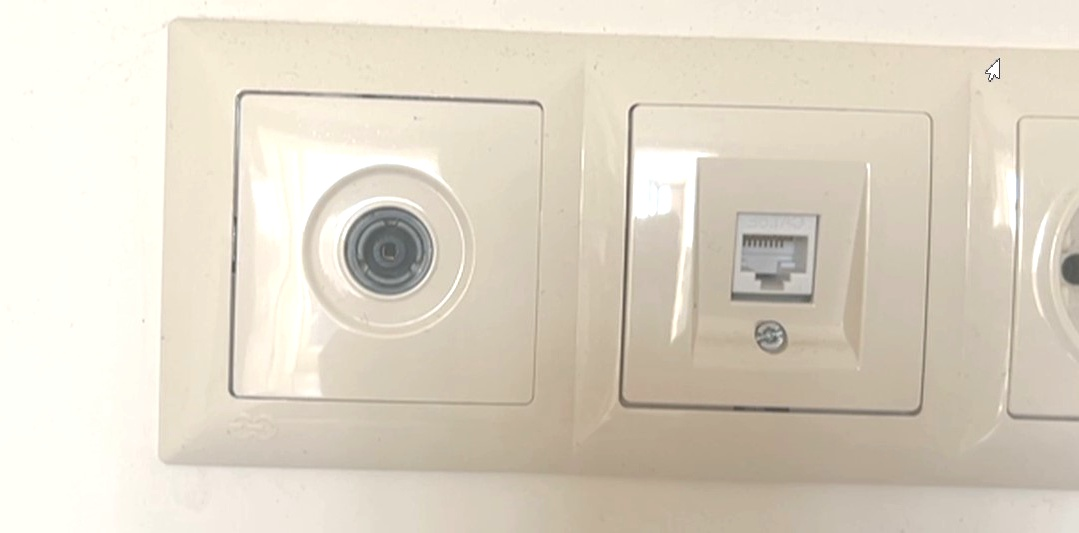Network Outlet: (668, 150, 896, 378)
TV Socket: (277, 155, 485, 339)
